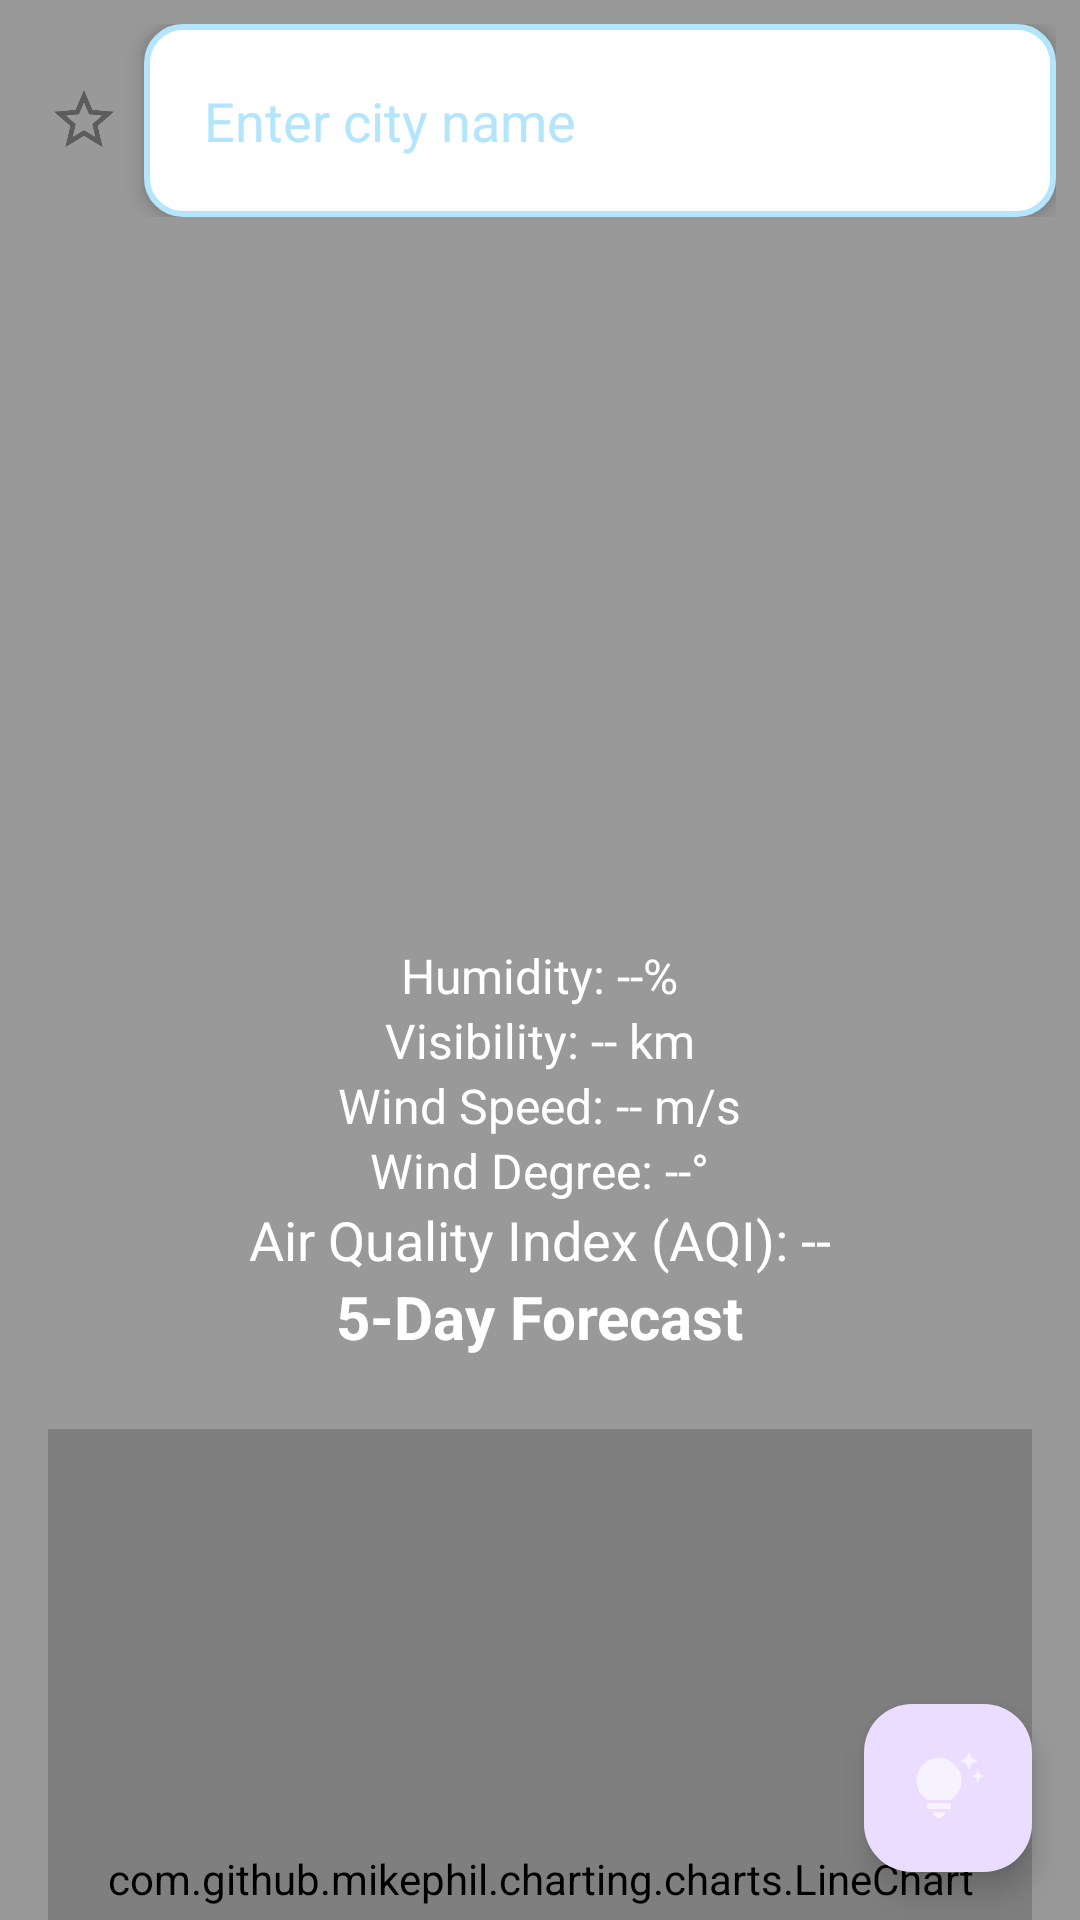

Point at icon controls on the screen. Image size 1080px x 1920px, points as [x,y].
Favorite: [84,118]
🤖 Ask AI: [948,1788]
